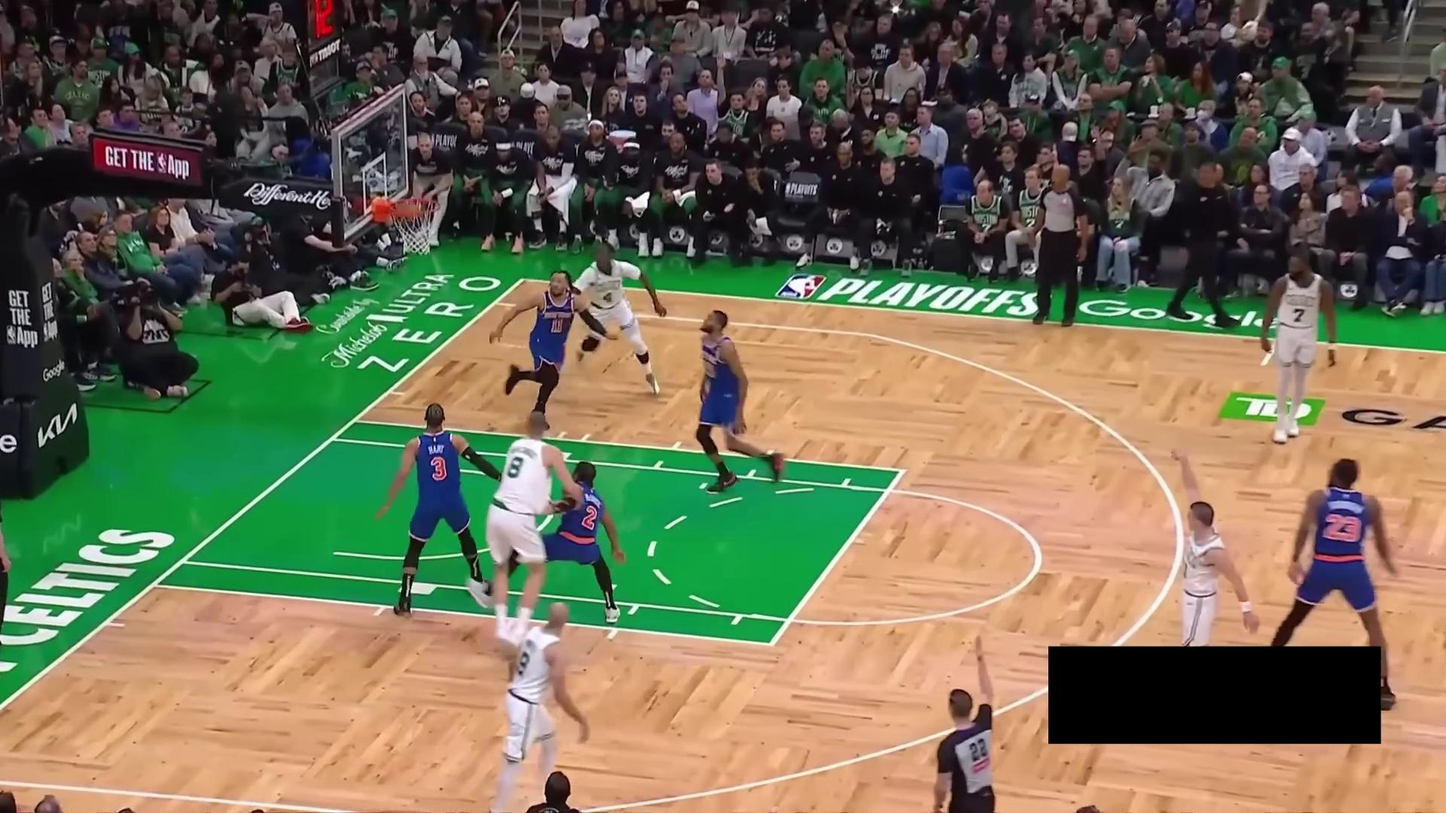ball: (392, 198, 421, 227)
ball-in-basket: (389, 196, 443, 255)
number: (1323, 509, 1363, 544), (428, 455, 452, 481), (579, 502, 599, 530), (505, 456, 526, 478), (517, 650, 531, 676), (550, 315, 564, 335), (1292, 307, 1306, 323), (602, 289, 614, 306)
player: (1269, 457, 1397, 710), (376, 402, 501, 617), (465, 461, 626, 624), (486, 409, 584, 647), (487, 266, 625, 428), (489, 602, 592, 813), (1171, 449, 1262, 646), (695, 309, 785, 495), (1260, 246, 1337, 443), (570, 243, 669, 396)
referee: (931, 633, 997, 813), (1026, 163, 1088, 327)
rim: (388, 196, 443, 219)
